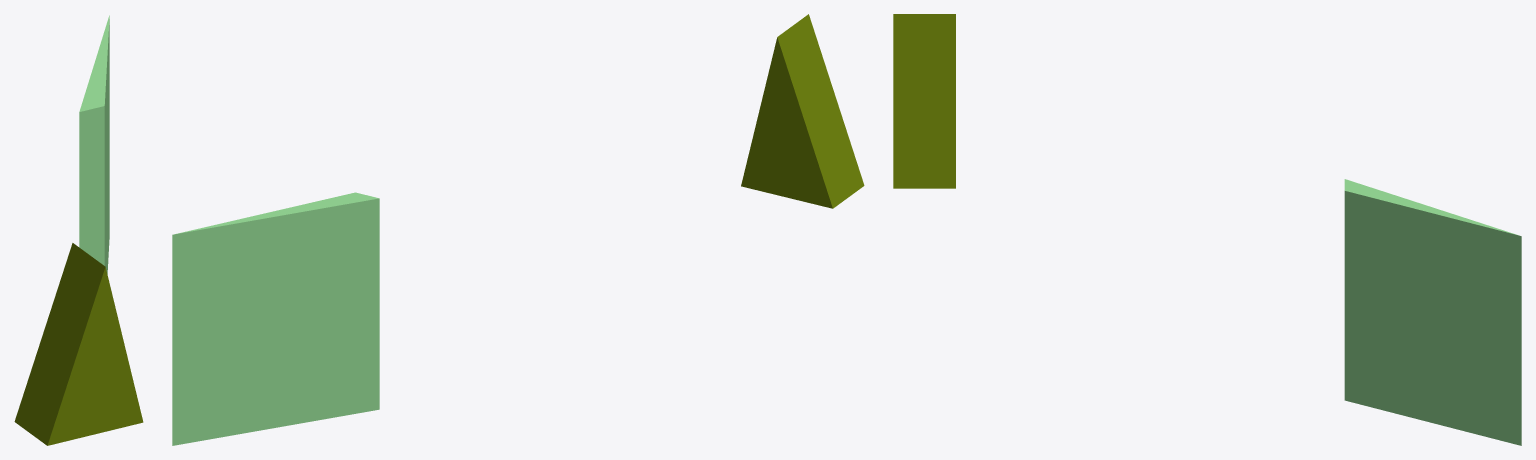
Rendered from prism.DAE.
3 views of the same model, side by side, from view 1: azimuth 30°, elevation 25°; view 2: azimuth 150°, elevation 25°; view 3: azimuth 270°, elevation 25° (orthographic). The views are drawn at different scales.
Visible parts, largest first — view 1: Prism01, Prism02; view 2: Prism02, Prism01; view 3: Prism02, Prism01.
Boxes of the visible parts, x1,y1,x2,y2 form: Prism01: (14,243,143,445); Prism02: (79,15,109,274); Prism02: (172,192,379,445); Prism01: (741,14,864,208); Prism02: (1344,179,1521,445); Prism01: (893,14,955,188).
Bounding box in the file's own units: 229 × 334 × 163.
